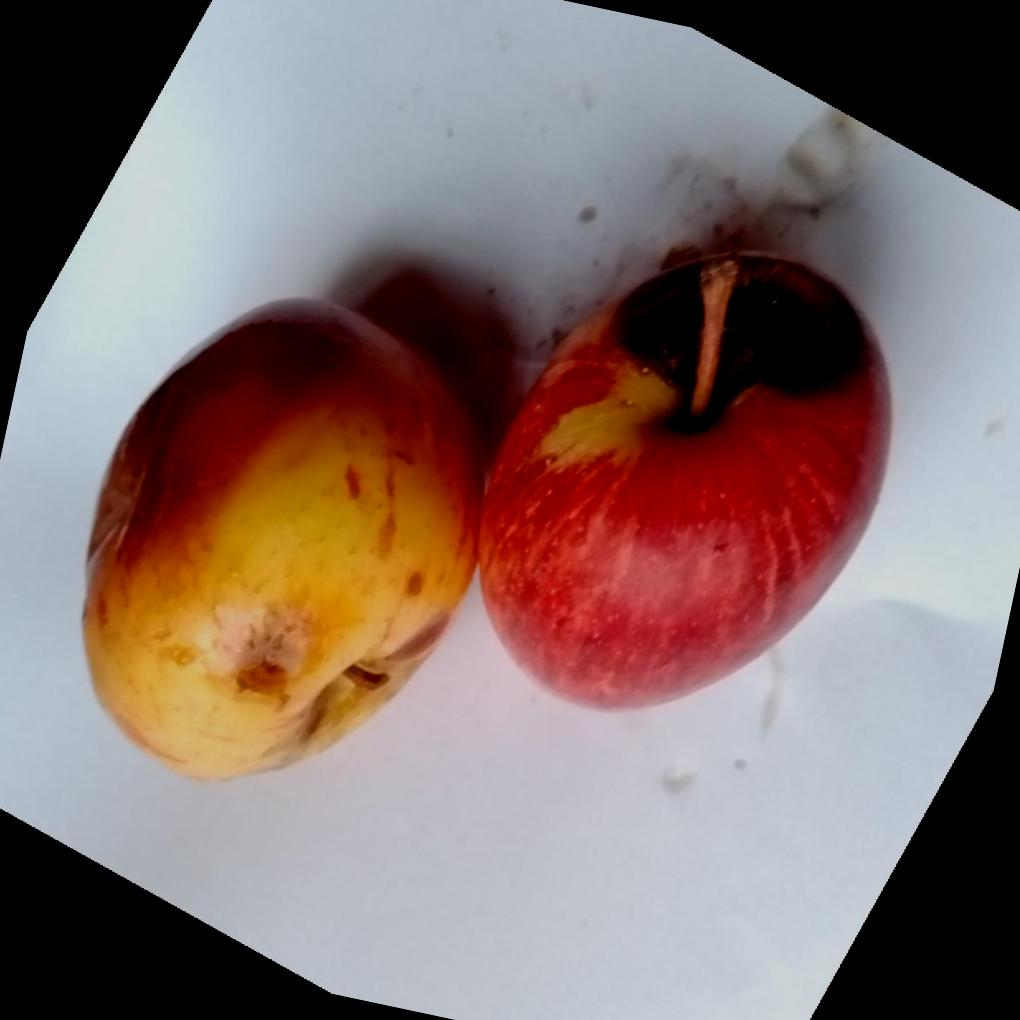FreshOrange: (77, 249, 893, 788)
